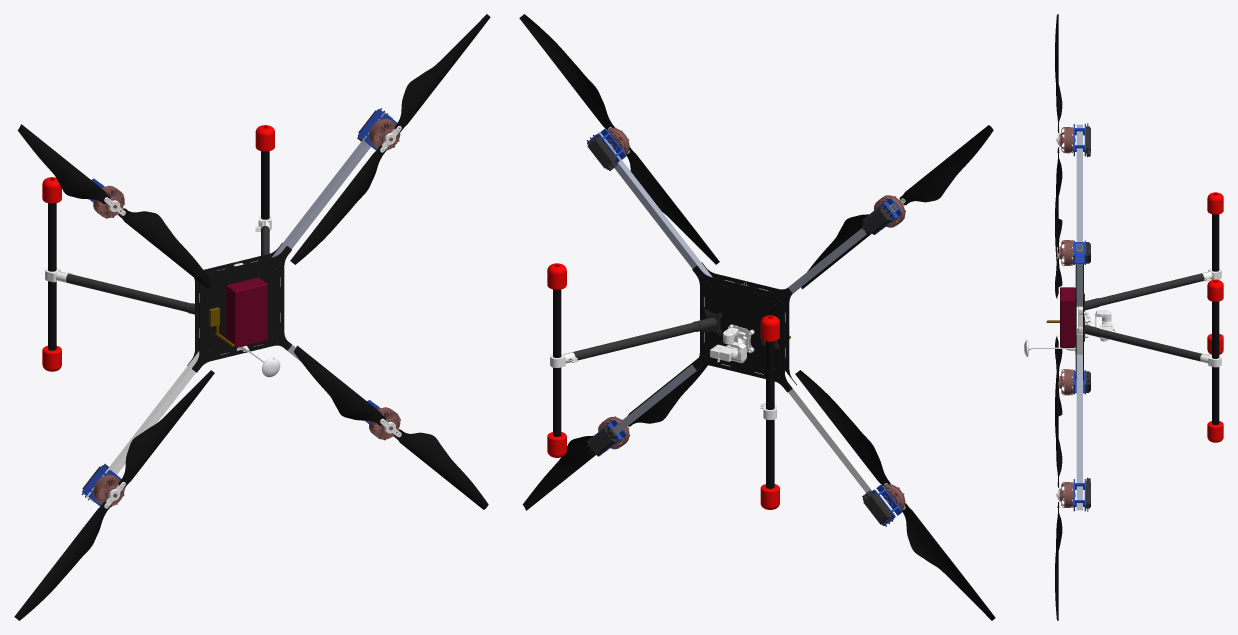
File: zelyn_vtol_visual_v2.dae
3 views of the same model, side by side, from view 1: azimuth 30°, elevation 25°; view 2: azimuth 150°, elevation 25°; view 3: azimuth 270°, elevation 25° (orthographic). The views are drawn at different scales.
Visible parts, largest first — view 1: node_c3d4b19e_f6e3_44c5_96cd_2ead6ed430ac_mesh0, node_298e9685_6cb4_4373_8c1e_37f2375e0b76_mesh0, node_6d6ee107_3ebf_45f5_a89a_2596aa29926c_mesh0, node_8319e958_e01a_4593_9992_580facf77832_mesh0, node_bab28528_e2fb_43cb_9775_4b0a07254681_mesh0, node_eb910893_4dc1_48b7_b066_4b9f0d9b6c59_mesh0, node_f6b783e3_7baf_4d4d_8cc1_ee80c360f8a0_mesh0, node_730bc60a_cb25_4793_ad5d_50f5497b1706_mesh0, node_f50f8525_26ba_4006_9c2d_f75f3f340113_mesh0, node_1d4cea8d_5a32_498d_a33f_13f4cec0e22e_mesh0, node_1cd9baf3_12a8_4b22_b513_6de90eff34dc_mesh0, node_49f87539_066f_4e5b_aa12_a9a6420e5cc0_mesh0 (+3 smaller); view 2: node_bcd1cac8_fec1_47d8_81d1_70b645b9a50d_mesh0, node_1d4cea8d_5a32_498d_a33f_13f4cec0e22e_mesh0, node_730bc60a_cb25_4793_ad5d_50f5497b1706_mesh0, node_f6b783e3_7baf_4d4d_8cc1_ee80c360f8a0_mesh0, node_bab28528_e2fb_43cb_9775_4b0a07254681_mesh0, node_8319e958_e01a_4593_9992_580facf77832_mesh0, node_1dbfa6f5_af68_4676_aeab_c087ef41a8a9_mesh0, node_49f87539_066f_4e5b_aa12_a9a6420e5cc0_mesh0, node_1cd9baf3_12a8_4b22_b513_6de90eff34dc_mesh0, node_eb910893_4dc1_48b7_b066_4b9f0d9b6c59_mesh0, node_420cf09d_9682_4f21_b943_460f25a7aac0_mesh0, node_8082bacd_425d_4fc1_beb3_5966c8ca60d3_mesh0 (+5 smaller); view 3: node_2e856a30_9d80_46c1_b9ec_881f173fb25d_mesh0, node_1dbfa6f5_af68_4676_aeab_c087ef41a8a9_mesh0, node_706a1bb7_de68_4d40_b870_24324549efa7_mesh0, node_298e9685_6cb4_4373_8c1e_37f2375e0b76_mesh0, node_420cf09d_9682_4f21_b943_460f25a7aac0_mesh0, node_2ecad617_e123_4a31_a1d7_61c03f371b93_mesh0, node_1d4cea8d_5a32_498d_a33f_13f4cec0e22e_mesh0, node_f50f8525_26ba_4006_9c2d_f75f3f340113_mesh0, node_eb910893_4dc1_48b7_b066_4b9f0d9b6c59_mesh0, node_8082bacd_425d_4fc1_beb3_5966c8ca60d3_mesh0, node_1cd9baf3_12a8_4b22_b513_6de90eff34dc_mesh0, node_88f5c13d_7155_4806_8810_ab3a3f3910dd_mesh0 (+3 smaller).
Part boxes in pixels (x1=…): node_c3d4b19e_f6e3_44c5_96cd_2ead6ed430ac_mesh0: x1=192, y1=246, x2=291, y2=372; node_298e9685_6cb4_4373_8c1e_37f2375e0b76_mesh0: x1=226, y1=277, x2=267, y2=348; node_6d6ee107_3ebf_45f5_a89a_2596aa29926c_mesh0: x1=118, y1=208, x2=212, y2=288; node_8319e958_e01a_4593_9992_580facf77832_mesh0: x1=290, y1=145, x2=386, y2=264; node_bab28528_e2fb_43cb_9775_4b0a07254681_mesh0: x1=14, y1=501, x2=110, y2=620; node_eb910893_4dc1_48b7_b066_4b9f0d9b6c59_mesh0: x1=394, y1=429, x2=488, y2=509; node_f6b783e3_7baf_4d4d_8cc1_ee80c360f8a0_mesh0: x1=394, y1=14, x2=490, y2=132; node_730bc60a_cb25_4793_ad5d_50f5497b1706_mesh0: x1=118, y1=370, x2=214, y2=487; node_f50f8525_26ba_4006_9c2d_f75f3f340113_mesh0: x1=293, y1=345, x2=386, y2=425; node_1d4cea8d_5a32_498d_a33f_13f4cec0e22e_mesh0: x1=17, y1=124, x2=110, y2=204; node_1cd9baf3_12a8_4b22_b513_6de90eff34dc_mesh0: x1=272, y1=112, x2=392, y2=268; node_49f87539_066f_4e5b_aa12_a9a6420e5cc0_mesh0: x1=86, y1=351, x2=199, y2=502; node_bcd1cac8_fec1_47d8_81d1_70b645b9a50d_mesh0: x1=692, y1=265, x2=792, y2=392; node_1d4cea8d_5a32_498d_a33f_13f4cec0e22e_mesh0: x1=899, y1=125, x2=993, y2=205; node_730bc60a_cb25_4793_ad5d_50f5497b1706_mesh0: x1=795, y1=370, x2=890, y2=485; node_f6b783e3_7baf_4d4d_8cc1_ee80c360f8a0_mesh0: x1=519, y1=14, x2=614, y2=129; node_bab28528_e2fb_43cb_9775_4b0a07254681_mesh0: x1=902, y1=503, x2=995, y2=620; node_8319e958_e01a_4593_9992_580facf77832_mesh0: x1=626, y1=147, x2=719, y2=264; node_1dbfa6f5_af68_4676_aeab_c087ef41a8a9_mesh0: x1=564, y1=309, x2=721, y2=360; node_49f87539_066f_4e5b_aa12_a9a6420e5cc0_mesh0: x1=785, y1=371, x2=897, y2=522; node_1cd9baf3_12a8_4b22_b513_6de90eff34dc_mesh0: x1=591, y1=132, x2=712, y2=277; node_eb910893_4dc1_48b7_b066_4b9f0d9b6c59_mesh0: x1=522, y1=435, x2=596, y2=510; node_420cf09d_9682_4f21_b943_460f25a7aac0_mesh0: x1=553, y1=289, x2=561, y2=436; node_8082bacd_425d_4fc1_beb3_5966c8ca60d3_mesh0: x1=766, y1=341, x2=774, y2=488; node_2e856a30_9d80_46c1_b9ec_881f173fb25d_mesh0: x1=1084, y1=272, x2=1207, y2=316; node_1dbfa6f5_af68_4676_aeab_c087ef41a8a9_mesh0: x1=1084, y1=317, x2=1204, y2=361; node_706a1bb7_de68_4d40_b870_24324549efa7_mesh0: x1=1076, y1=354, x2=1082, y2=510; node_298e9685_6cb4_4373_8c1e_37f2375e0b76_mesh0: x1=1060, y1=287, x2=1075, y2=347; node_420cf09d_9682_4f21_b943_460f25a7aac0_mesh0: x1=1212, y1=301, x2=1219, y2=424; node_2ecad617_e123_4a31_a1d7_61c03f371b93_mesh0: x1=1076, y1=124, x2=1082, y2=241; node_1d4cea8d_5a32_498d_a33f_13f4cec0e22e_mesh0: x1=1055, y1=14, x2=1062, y2=132; node_f50f8525_26ba_4006_9c2d_f75f3f340113_mesh0: x1=1055, y1=369, x2=1062, y2=487; node_eb910893_4dc1_48b7_b066_4b9f0d9b6c59_mesh0: x1=1055, y1=502, x2=1062, y2=620; node_8082bacd_425d_4fc1_beb3_5966c8ca60d3_mesh0: x1=1212, y1=214, x2=1219, y2=279; node_1cd9baf3_12a8_4b22_b513_6de90eff34dc_mesh0: x1=1076, y1=244, x2=1082, y2=306; node_88f5c13d_7155_4806_8810_ab3a3f3910dd_mesh0: x1=1207, y1=192, x2=1223, y2=214.
Size of the model in its own units: 1.41 by 1.41 by 0.6109.
